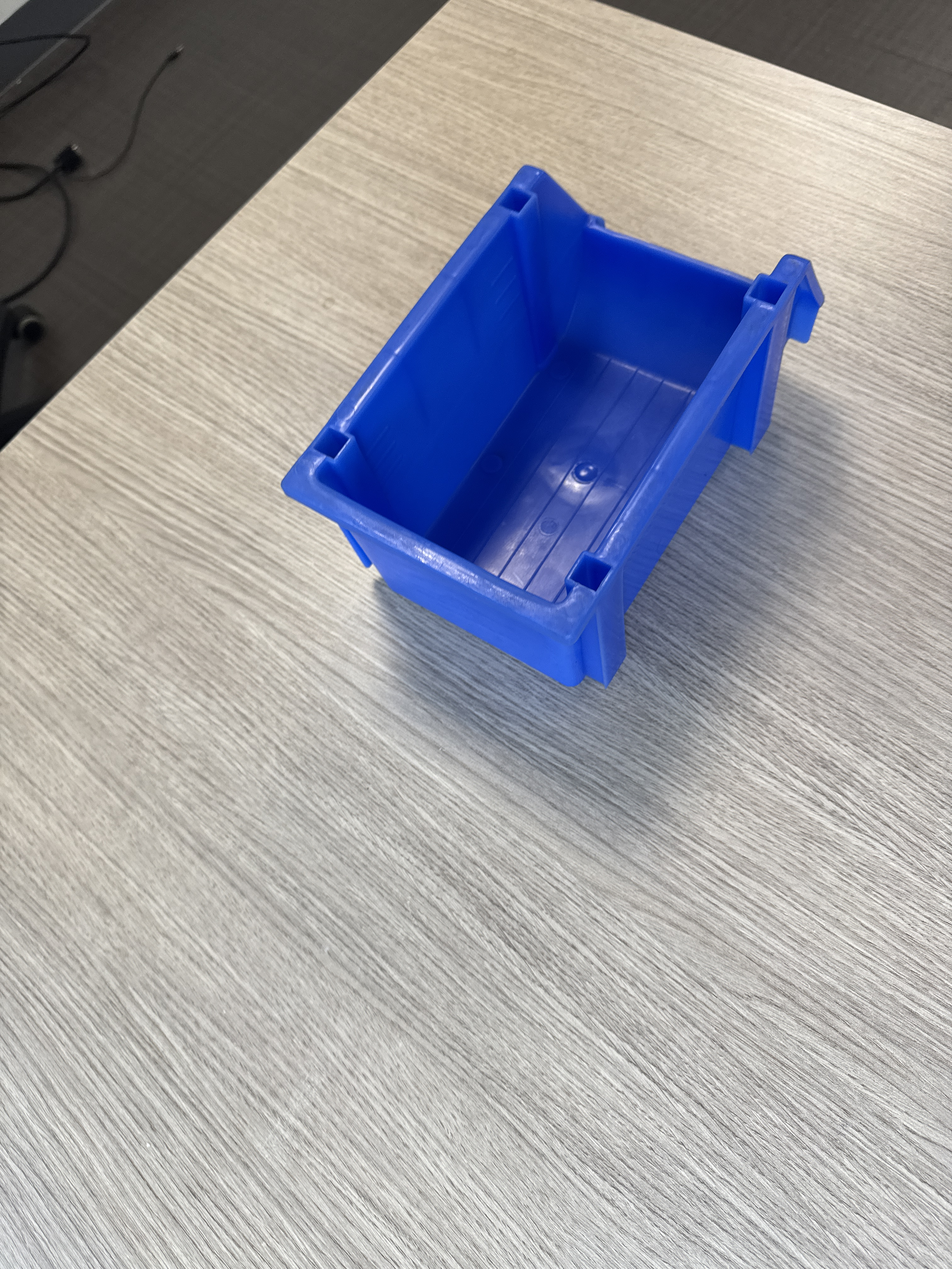Bin Boundary: (304, 139, 792, 653)
